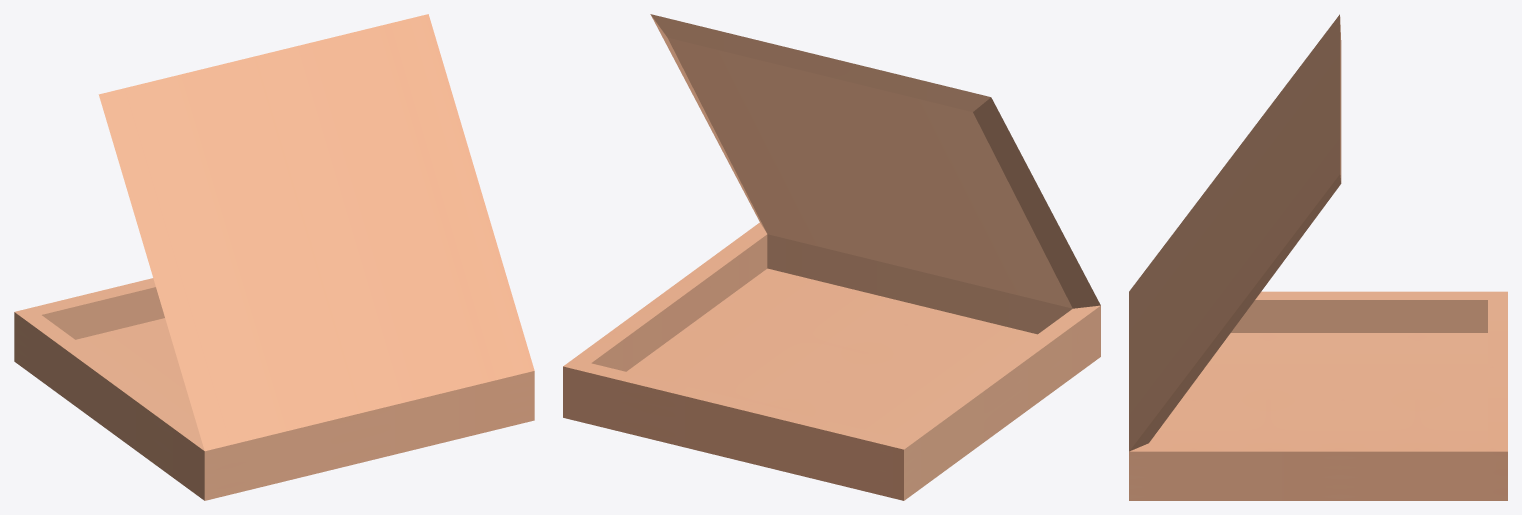
The model's file is OpenPizzaBox.fbx.
3 renders of one model, left to right at view 1: azimuth 30°, elevation 25°; view 2: azimuth 150°, elevation 25°; view 3: azimuth 270°, elevation 25°, orthographic. The views are drawn at different scales.
Parts seen in each view (by area): view 1: OpenPizzaBox; view 2: OpenPizzaBox; view 3: OpenPizzaBox.
Boxes of the visible parts, left/top/right/bottom form: OpenPizzaBox: left=14, top=14, right=534, bottom=500; OpenPizzaBox: left=563, top=14, right=1100, bottom=500; OpenPizzaBox: left=1129, top=14, right=1507, bottom=500.
Bounding box in the file's own units: 0.576 × 0.576 × 0.5486.
